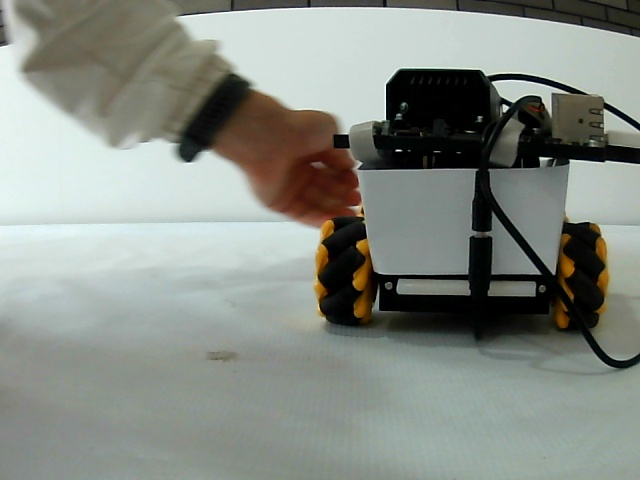car: (319, 68, 606, 321)
paper: (362, 171, 556, 273)
